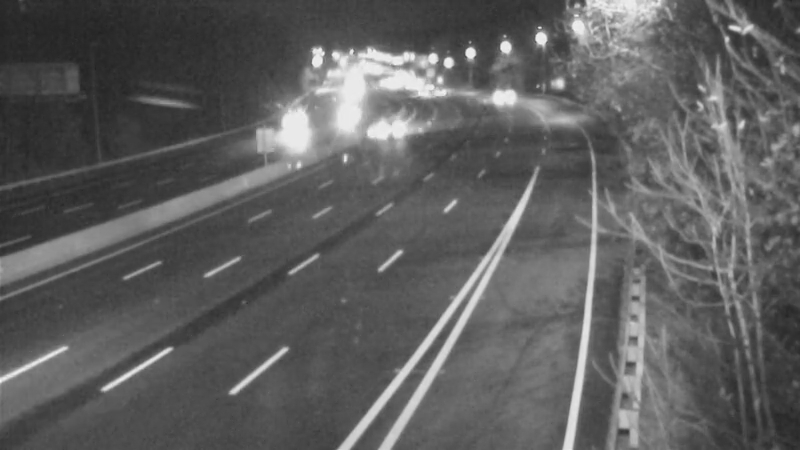vehicle: (414, 66, 464, 116), (396, 71, 446, 121), (477, 74, 527, 124), (368, 101, 418, 151), (271, 95, 321, 145), (325, 93, 375, 143)
